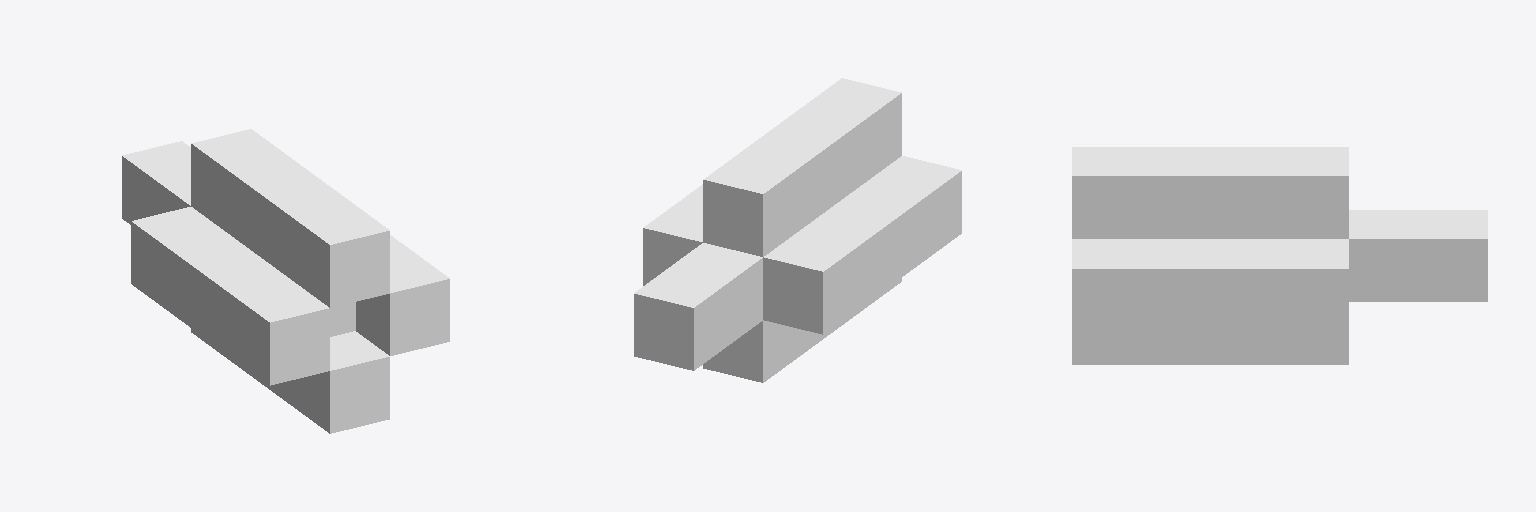
The model's file is pattron.obj.
3 views of the same model, side by side, from view 1: azimuth 30°, elevation 25°; view 2: azimuth 150°, elevation 25°; view 3: azimuth 270°, elevation 25° (orthographic).
Visible parts, largest first — view 1: object 1; view 2: object 1; view 3: object 1.
Boxes of the visible parts, x1=… form: object 1: x1=122, y1=129, x2=449, y2=433; object 1: x1=634, y1=78, x2=961, y2=382; object 1: x1=1072, y1=147, x2=1487, y2=364.
Bounding box in the file's own units: 0.3 × 0.3 × 0.6.